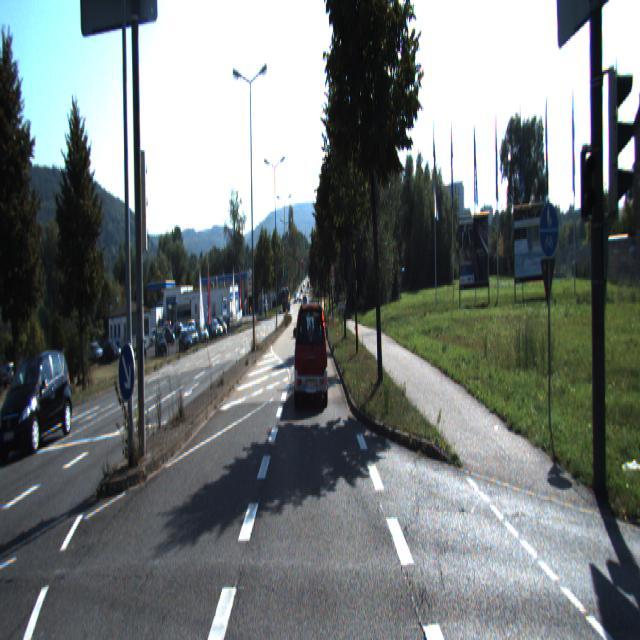Car: (0, 348, 74, 463), (294, 300, 327, 406)
